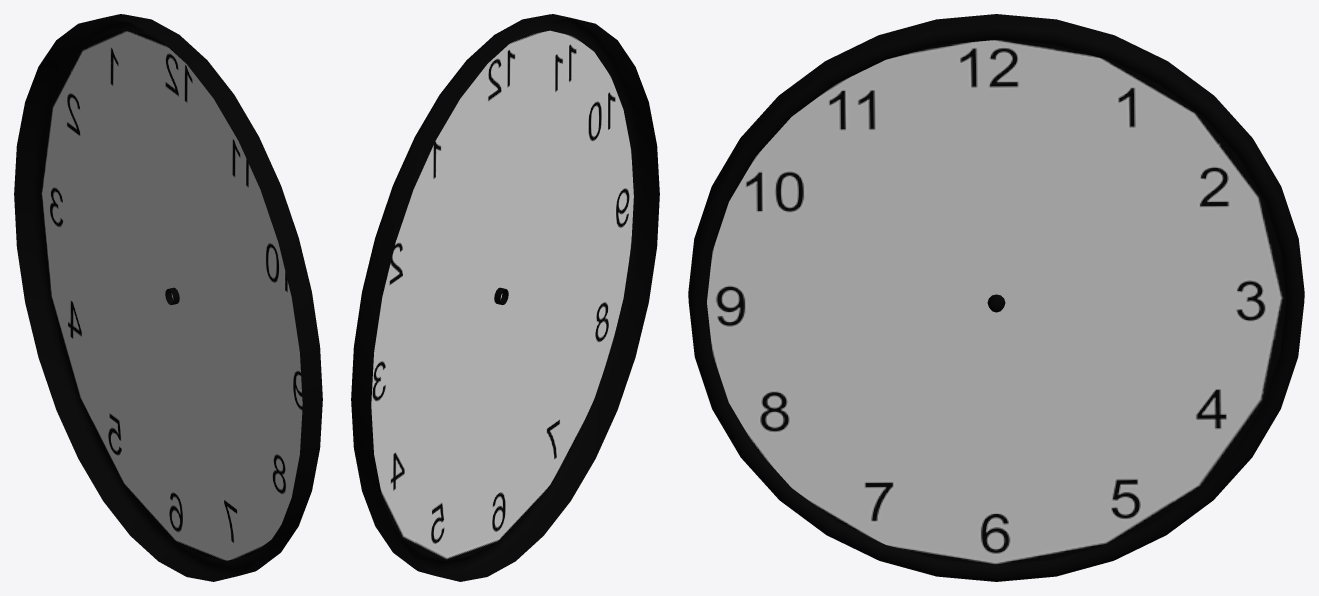
The model's file is clock.fbx.
3 views of the same model, side by side, from view 1: azimuth 30°, elevation 25°; view 2: azimuth 150°, elevation 25°; view 3: azimuth 270°, elevation 25° (orthographic). The views are drawn at different scales.
Visible parts, largest first — view 1: clock.001; view 2: clock.001; view 3: clock.001.
Part boxes in pixels (x1,y1,x2,y2): clock.001: (14, 14, 322, 581); clock.001: (351, 14, 659, 581); clock.001: (688, 14, 1304, 581).
Bounding box in the file's own units: 1.39 × 25.33 × 25.33.
